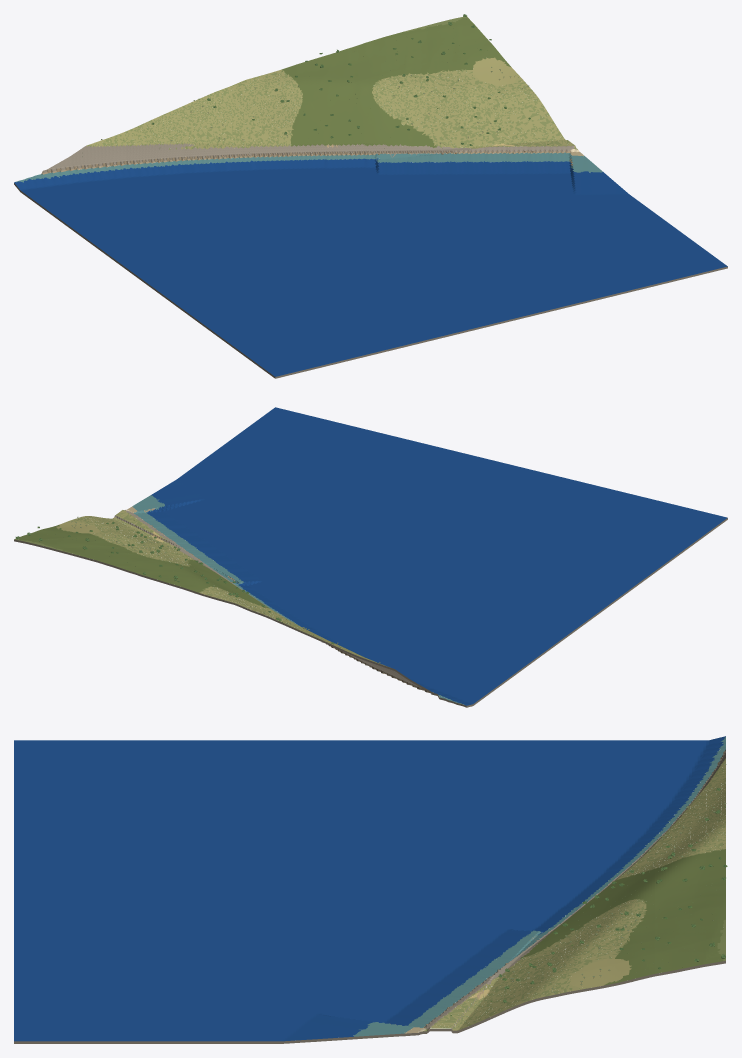
Rendered from parca_+4_-10-yakin.glb.
3 renders of one model, top to bottom at view 1: azimuth 30°, elevation 25°; view 2: azimuth 150°, elevation 25°; view 3: azimuth 270°, elevation 25°, orthographic. The views are drawn at different scales.
Parts seen in each view (by area): view 1: parca_+4_-10_arazi, parca_+4_-10_bitkiler; view 2: parca_+4_-10_arazi, parca_+4_-10_bitkiler; view 3: parca_+4_-10_arazi, parca_+4_-10_bitkiler.
Part boxes in pixels (x1,y1,x2,y2): parca_+4_-10_arazi: (14,16,727,378); parca_+4_-10_bitkiler: (82,14,548,156); parca_+4_-10_arazi: (14,407,727,707); parca_+4_-10_bitkiler: (15,517,380,662); parca_+4_-10_arazi: (14,736,725,1043); parca_+4_-10_bitkiler: (450,763,727,1015).
Bounding box in the file's own units: 1002 × 136 × 1003.
